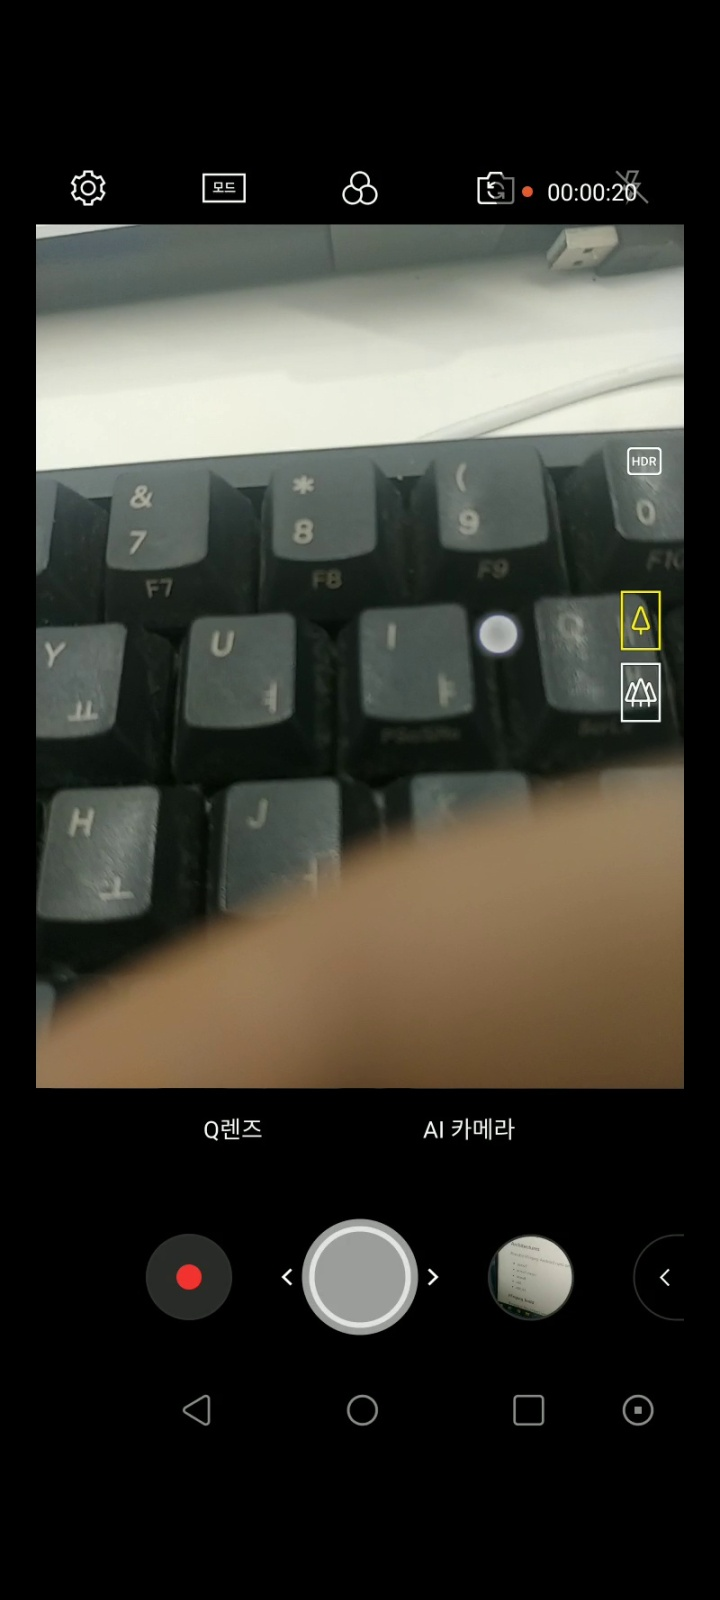Cursor: (476, 611, 521, 656)
